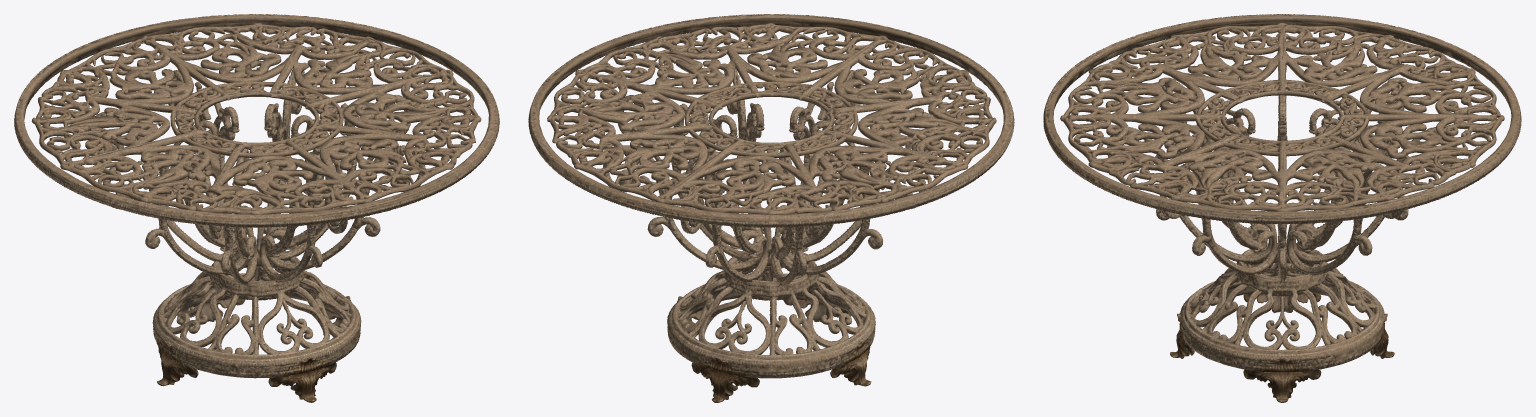
The model's file is tb108-table.glb.
3 views of the same model, side by side, from view 1: azimuth 30°, elevation 25°; view 2: azimuth 150°, elevation 25°; view 3: azimuth 270°, elevation 25° (orthographic).
Visible parts, largest first — view 1: mesh_node; view 2: mesh_node; view 3: mesh_node.
Part boxes in pixels (left/top/right/bottom): mesh_node: left=14, top=14, right=499, bottom=402; mesh_node: left=528, top=14, right=1014, bottom=402; mesh_node: left=1043, top=14, right=1521, bottom=402.
Size of the model in its own units: 1.35 by 0.7601 by 1.35.
Materials: 1 (1 with a texture image).
